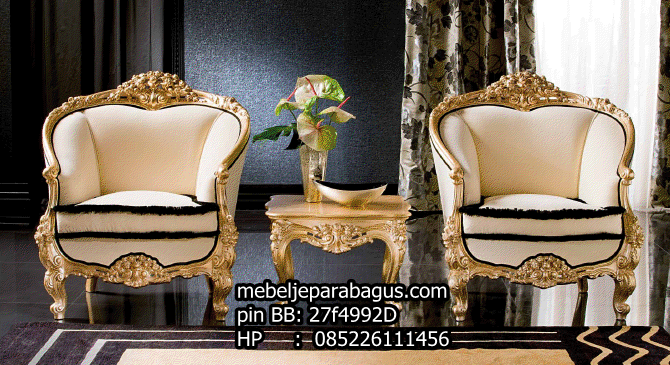Carving Chair: (438, 73, 649, 319), (41, 77, 244, 315)
Carving Table: (270, 190, 409, 304)
